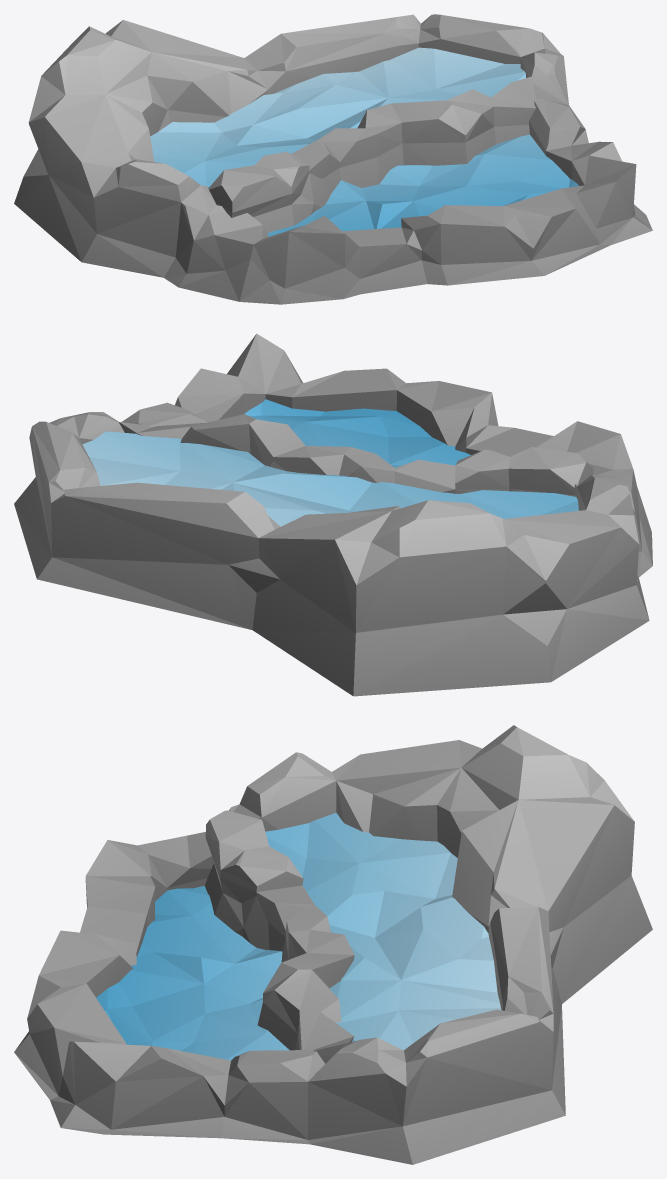
The model's file is hot spring.fbx.
3 renders of one model, top to bottom at view 1: azimuth 30°, elevation 25°; view 2: azimuth 150°, elevation 25°; view 3: azimuth 270°, elevation 25°, orthographic. The views are drawn at different scales.
Parts seen in each view (by area): view 1: hot spring; view 2: hot spring; view 3: hot spring.
Boxes of the visible parts, x1,y1,x2,y2 form: hot spring: (14, 14, 652, 304); hot spring: (14, 333, 652, 696); hot spring: (14, 725, 652, 1164).
Bounding box in the file's own units: 1695 × 422 × 1473.
